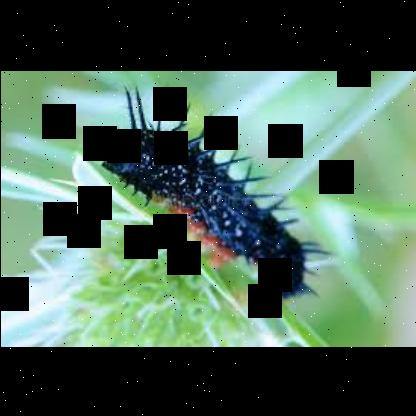oruga: (87, 90, 326, 308)
